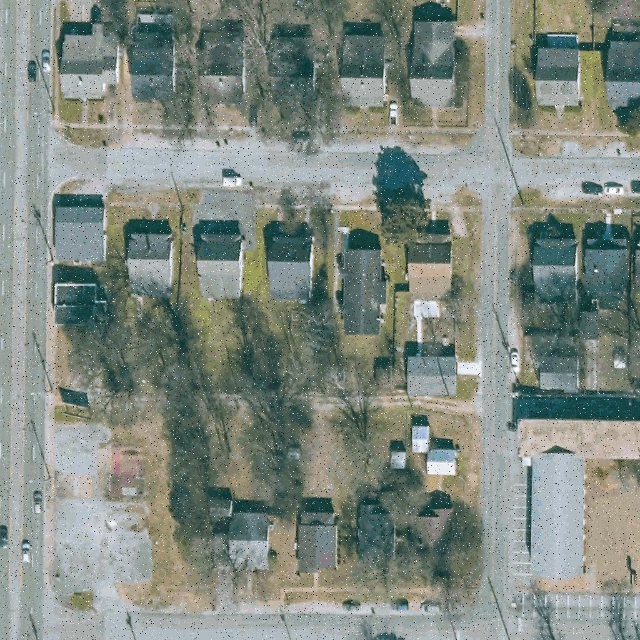vegetation: (68, 279, 214, 572), (237, 292, 305, 515), (361, 505, 478, 611), (378, 185, 429, 243), (611, 102, 639, 140)
